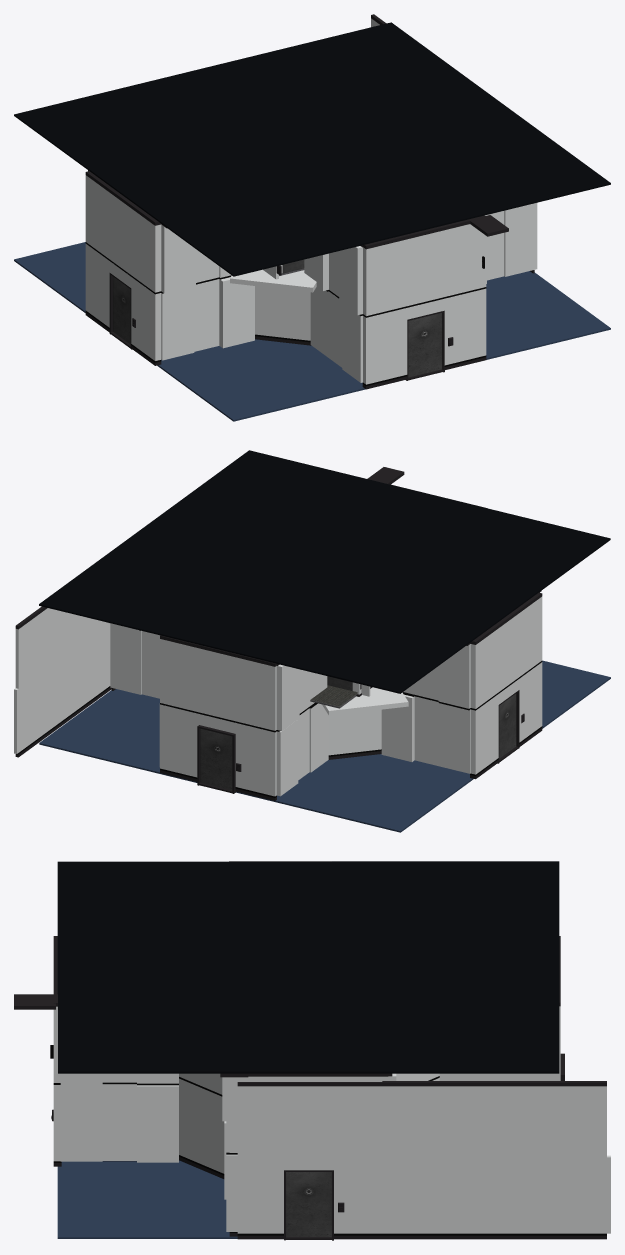
Rendered from SCP 4 Ways.obj.
3 renders of one model, top to bottom at view 1: azimuth 30°, elevation 25°; view 2: azimuth 150°, elevation 25°; view 3: azimuth 270°, elevation 25°, orthographic. The views are drawn at different scales.
Visible parts, largest first — view 1: Part137, Part284, Part136, Part37, Part192, Part22, Part315, Part251, Part146, Part257, Part157, Door17 (+13 smaller); view 2: Part137, Part284, Part166, Part18, Part37, Part14, Part162, Part286, Part300, Part222, Part88, Part308 (+14 smaller); view 3: Part137, Part18, Part14, Part284, Part26, Part31, Part23, Part293, Part59, Part72, Door2, Part63 (+13 smaller).
Boxes of the visible parts, x1,y1,x2,y2 form: Part137: [14, 22, 610, 276]; Part284: [14, 242, 610, 421]; Part136: [363, 224, 486, 316]; Part37: [85, 175, 161, 292]; Part192: [363, 308, 407, 384]; Part22: [444, 288, 486, 365]; Part315: [255, 286, 310, 340]; Part251: [161, 286, 194, 360]; Part146: [504, 203, 537, 276]; Part257: [219, 277, 254, 348]; Part157: [131, 277, 161, 360]; Door17: [408, 313, 442, 377]; Part137: [39, 450, 610, 693]; Part284: [39, 660, 610, 832]; Part166: [160, 639, 276, 730]; Part18: [14, 624, 110, 753]; Part37: [470, 596, 542, 708]; Part14: [15, 608, 109, 689]; Part162: [235, 723, 276, 796]; Part286: [160, 704, 199, 777]; Part300: [328, 709, 381, 755]; Part222: [110, 623, 141, 694]; Part88: [439, 703, 470, 773]; Part308: [470, 694, 498, 774]; Part137: [57, 861, 559, 1073]; Part18: [382, 1155, 610, 1233]; Part14: [382, 1086, 606, 1159]; Part284: [57, 1160, 237, 1238]; Part26: [237, 1086, 382, 1159]; Part31: [334, 1159, 382, 1233]; Part23: [237, 1159, 283, 1233]; Part293: [179, 1078, 224, 1173]; Part59: [60, 1085, 102, 1161]; Part72: [137, 1085, 178, 1162]; Door2: [286, 1172, 331, 1236]; Part63: [102, 1084, 136, 1159].
Bounding box in the file's own units: 50.93 × 18.43 × 59.5.
Materials: 12 (3 with a texture image).
